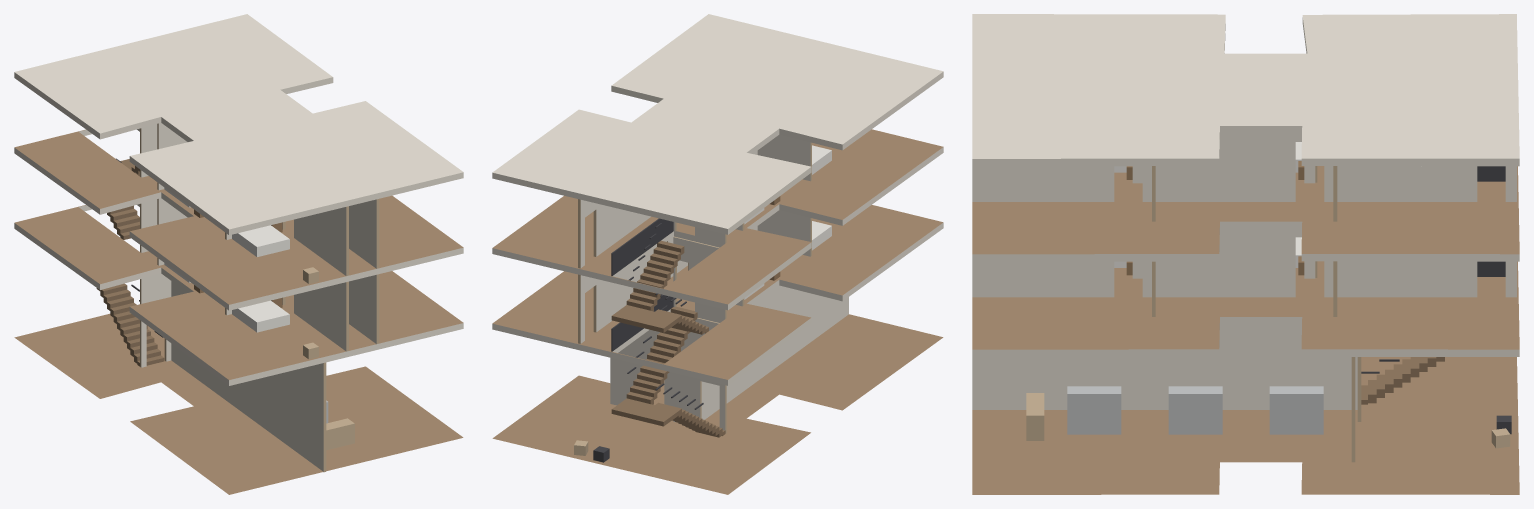
The model's file is interior.glb.
The picture shows the model from 3 angles, left to right: view 1: azimuth 30°, elevation 25°; view 2: azimuth 150°, elevation 25°; view 3: azimuth 270°, elevation 25°; orthographic projection. The views are drawn at different scales.
Visible parts, largest first — view 1: slabs, partitions, stair, coarse-s2, coarse-s1, coarse-s0; view 2: slabs, partitions, stair, coarse-s1, coarse-s2; view 3: slabs, partitions, coarse-s0, stair.
Boxes of the visible parts, bbox=[...] form: slabs: bbox=[14, 14, 463, 494]; partitions: bbox=[140, 123, 379, 472]; stair: bbox=[96, 158, 164, 366]; coarse-s2: bbox=[164, 187, 318, 283]; coarse-s1: bbox=[164, 263, 318, 359]; coarse-s0: bbox=[326, 400, 354, 450]; slabs: bbox=[492, 14, 943, 494]; partitions: bbox=[578, 134, 848, 433]; stair: bbox=[611, 218, 725, 437]; coarse-s1: bbox=[744, 221, 831, 299]; coarse-s2: bbox=[744, 145, 831, 224]; slabs: bbox=[972, 14, 1519, 494]; partitions: bbox=[972, 133, 1516, 462]; coarse-s0: bbox=[1026, 386, 1511, 448]; stair: bbox=[1361, 166, 1505, 404].
Bounding box in the file's own units: 10.86 × 11.76 × 17.34.
